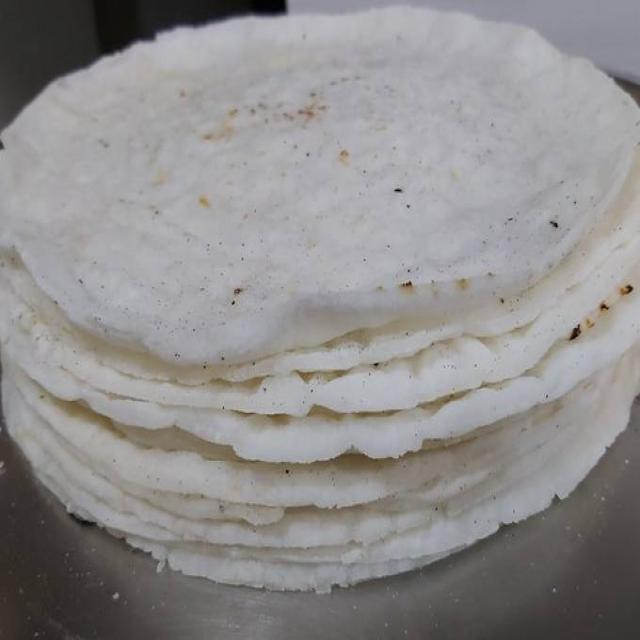RICE BHAKRI: (0, 9, 639, 364)
